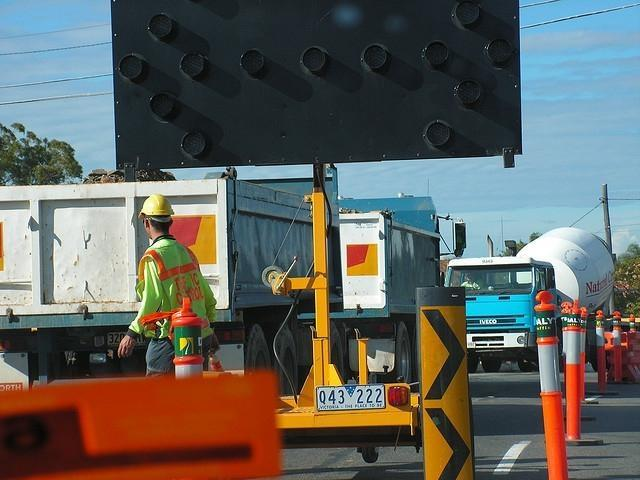truck: (1, 168, 467, 397), (444, 226, 618, 374)
